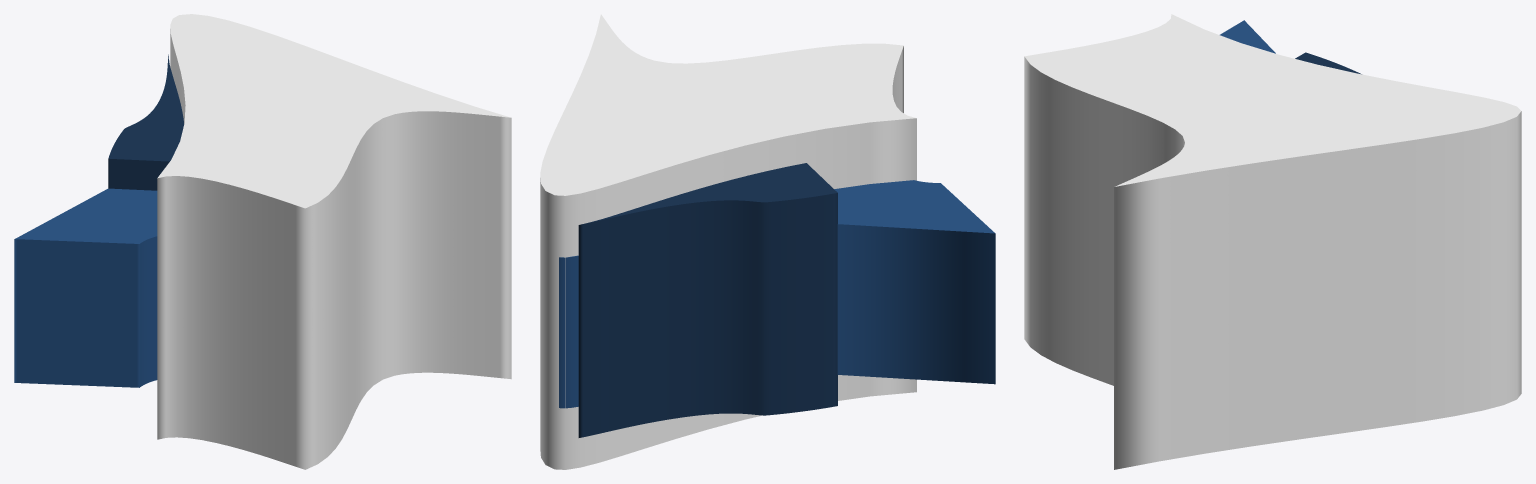
File: matlab.glb
The picture shows the model from 3 angles, left to right: view 1: azimuth 30°, elevation 25°; view 2: azimuth 150°, elevation 25°; view 3: azimuth 270°, elevation 25°; orthographic projection. The views are drawn at different scales.
Parts seen in each view (by area): view 1: Curve.004, Curve.001, Curve.003; view 2: Curve.004, Curve.003, Curve.001; view 3: Curve.004, Curve.001.
Part boxes in pixels (box(x1,y1,x2,y2)): Curve.004: box(157, 14, 511, 469); Curve.001: box(14, 188, 157, 387); Curve.003: box(108, 54, 184, 190); Curve.004: box(540, 14, 916, 469); Curve.003: box(578, 163, 837, 437); Curve.001: box(559, 180, 995, 408); Curve.004: box(1024, 14, 1521, 469); Curve.001: box(1220, 20, 1275, 53).
Size of the model in its own units: 0.0315 by 0.018 by 0.0287.
